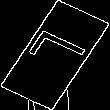L_SE: (19, 29, 91, 81)
